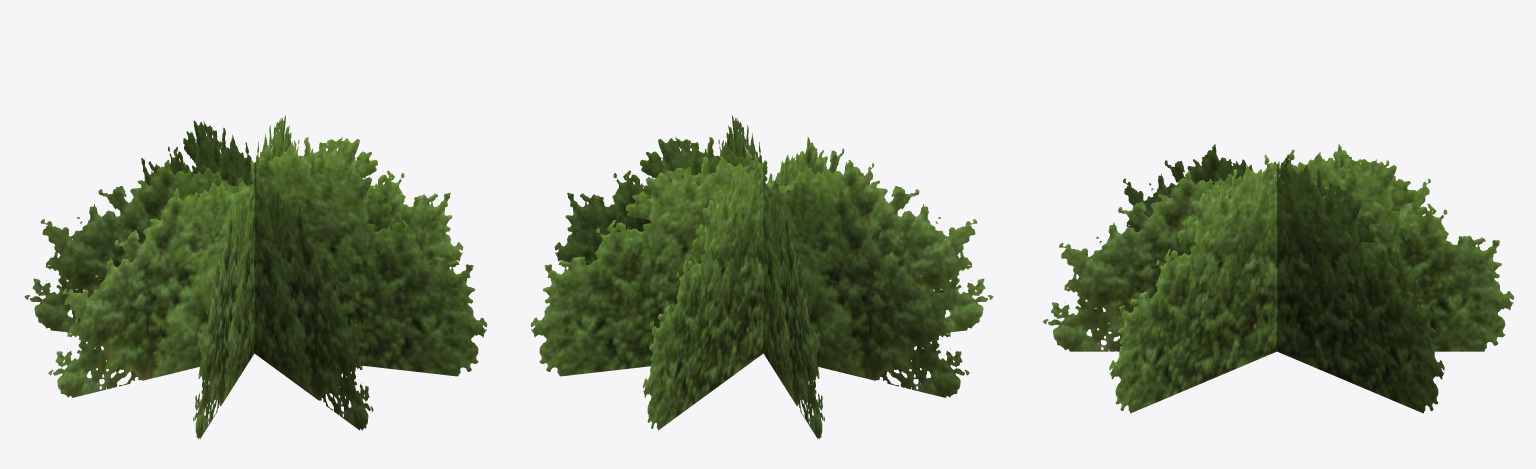
Rendered from Bush_01.fbx.
3 renders of one model, left to right at view 1: azimuth 30°, elevation 25°; view 2: azimuth 150°, elevation 25°; view 3: azimuth 270°, elevation 25°, orthographic.
Parts seen in each view (by area): view 1: Plane011, Plane010, Plane009, Plane012; view 2: Plane012, Plane010, Plane009, Plane011; view 3: Plane009, Plane012, Plane011.
Part boxes in pixels (box(x1,y1,x2,y2)): Plane011: box(24, 150, 487, 376); Plane010: box(48, 137, 463, 397); Plane009: box(140, 120, 373, 430); Plane012: box(193, 115, 312, 439); Plane012: box(530, 150, 993, 376); Plane010: box(554, 137, 969, 397); Plane009: box(643, 137, 874, 430); Plane011: box(705, 115, 824, 439); Plane009: box(1043, 149, 1514, 351); Plane012: box(1123, 144, 1444, 413); Plane011: box(1109, 144, 1430, 413).
Size of the model in its own units: 300 by 300 by 158.
